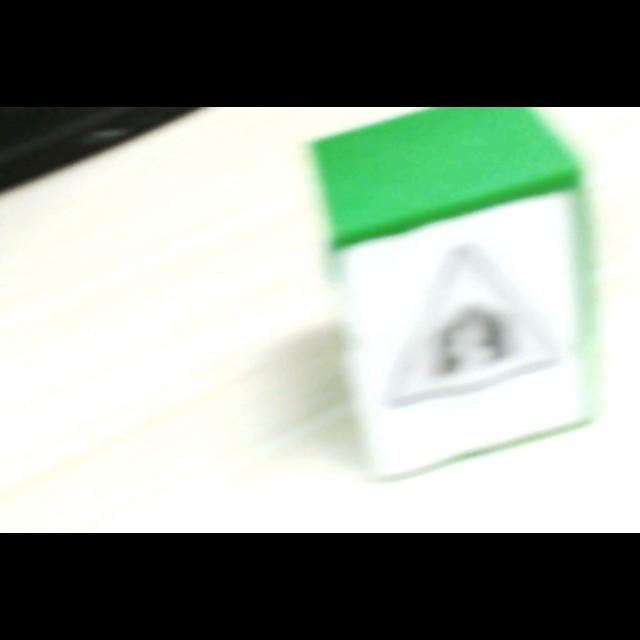Earthquake: (378, 245, 564, 408)
